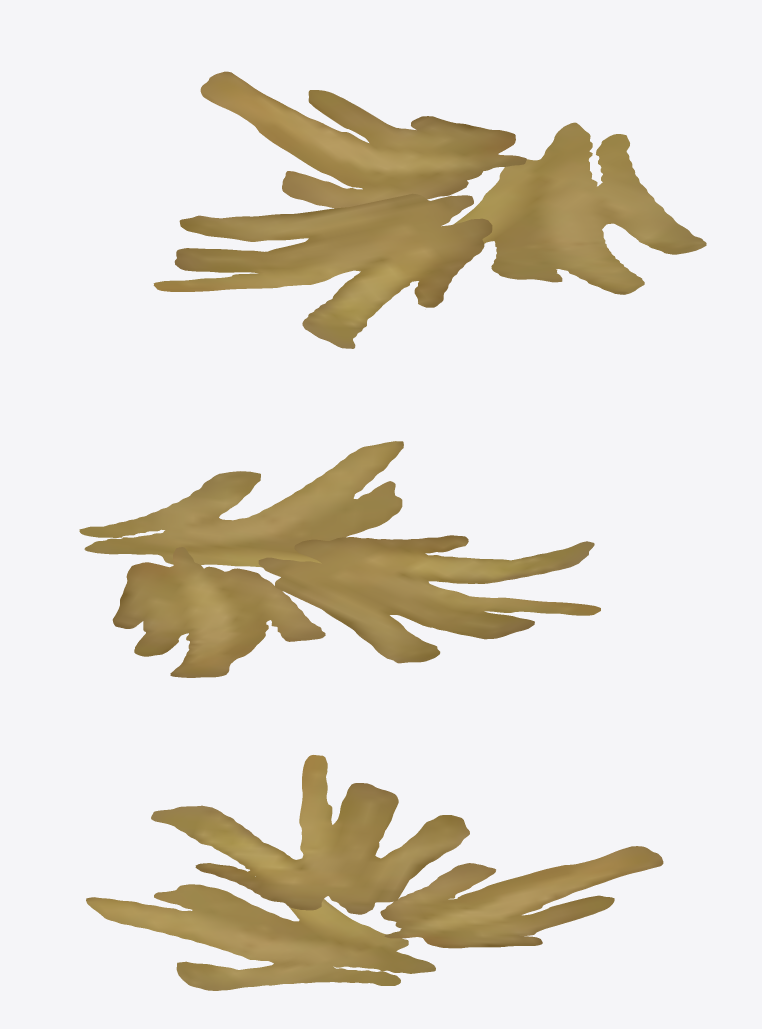
3 renders of one model, top to bottom at view 1: azimuth 30°, elevation 25°; view 2: azimuth 150°, elevation 25°; view 3: azimuth 270°, elevation 25°, orthographic. The views are drawn at different scales.
Bounding box in the file's own units: 0.6763 × 0.045 × 0.7377.
1 material, 1 textured.
